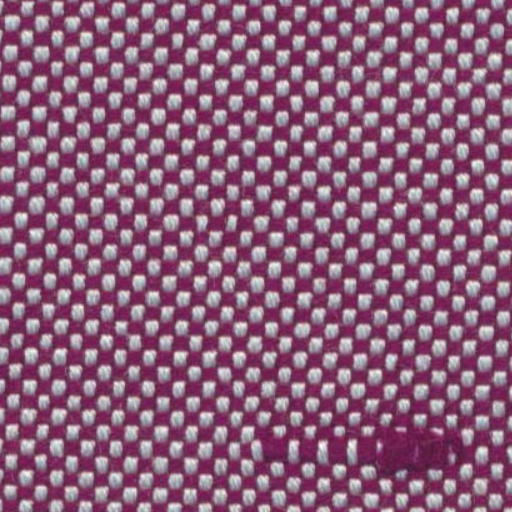DaiSha: (206, 410, 477, 480)
